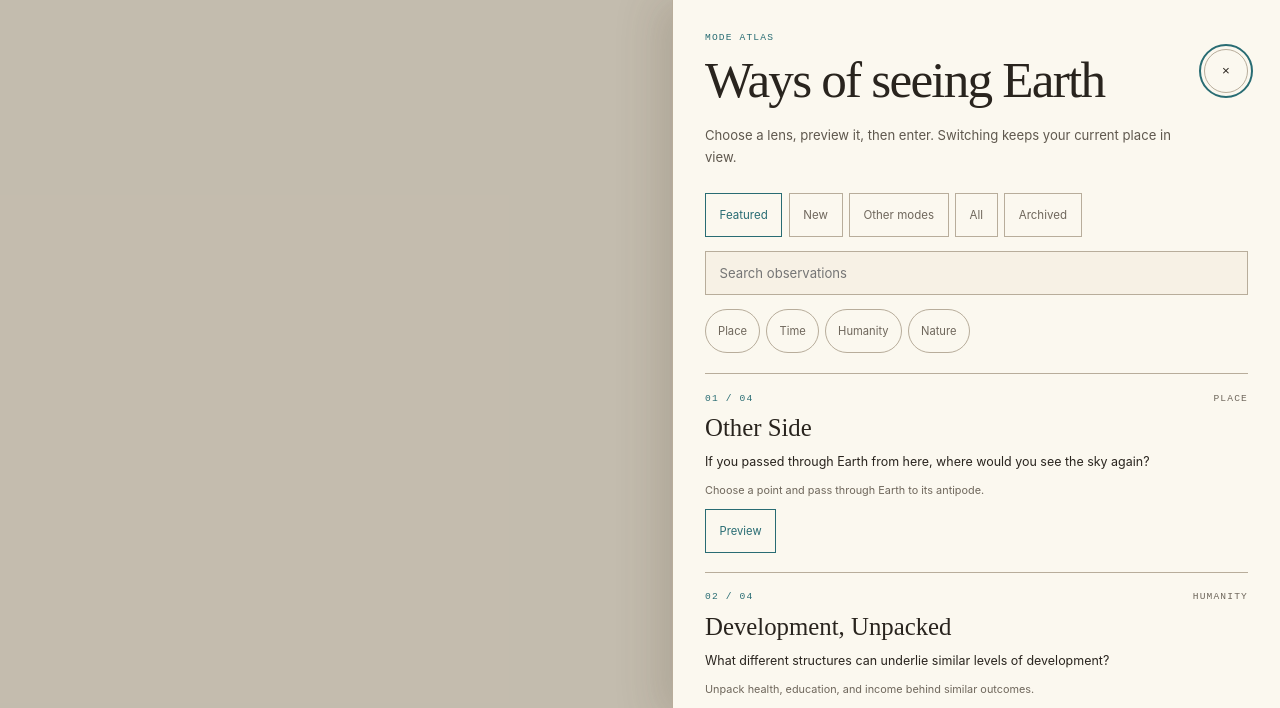
Scenario: ModeAtlas › filters the list by tag
Click the tab "All" at [976, 214], box [955,192,998,236]
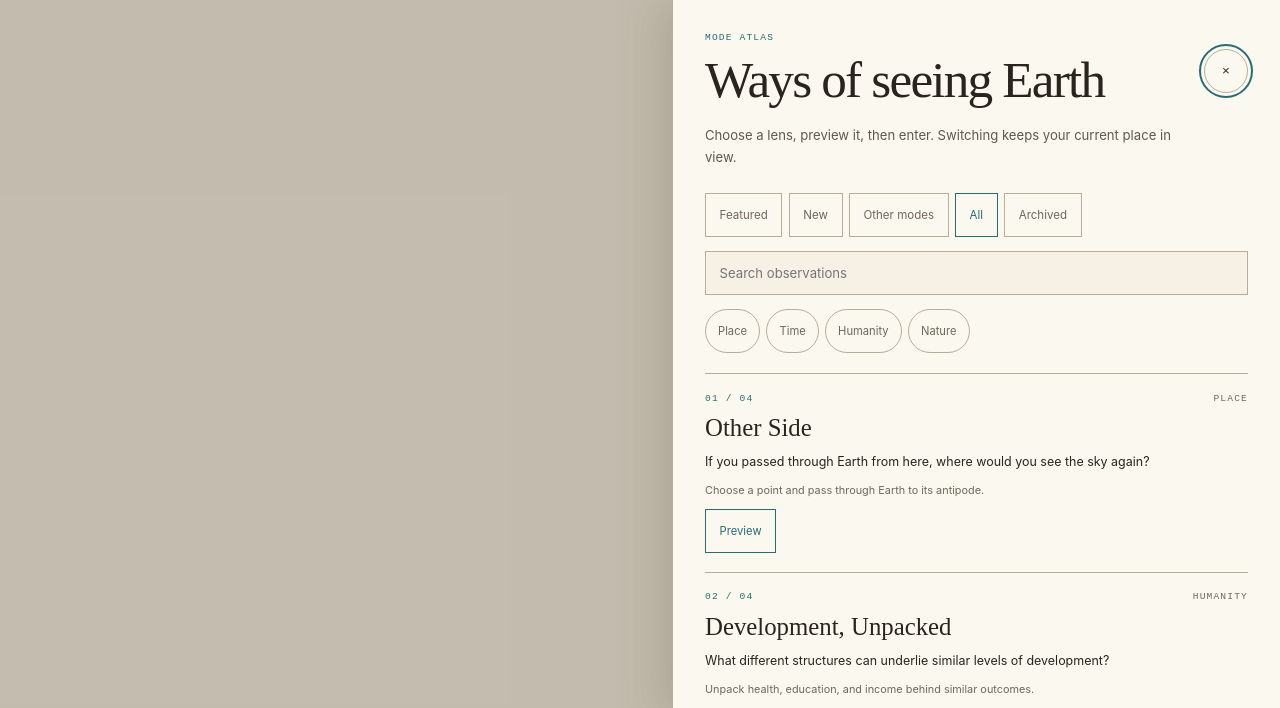
Click the button "Time" at [793, 331], box [766,309,819,353]
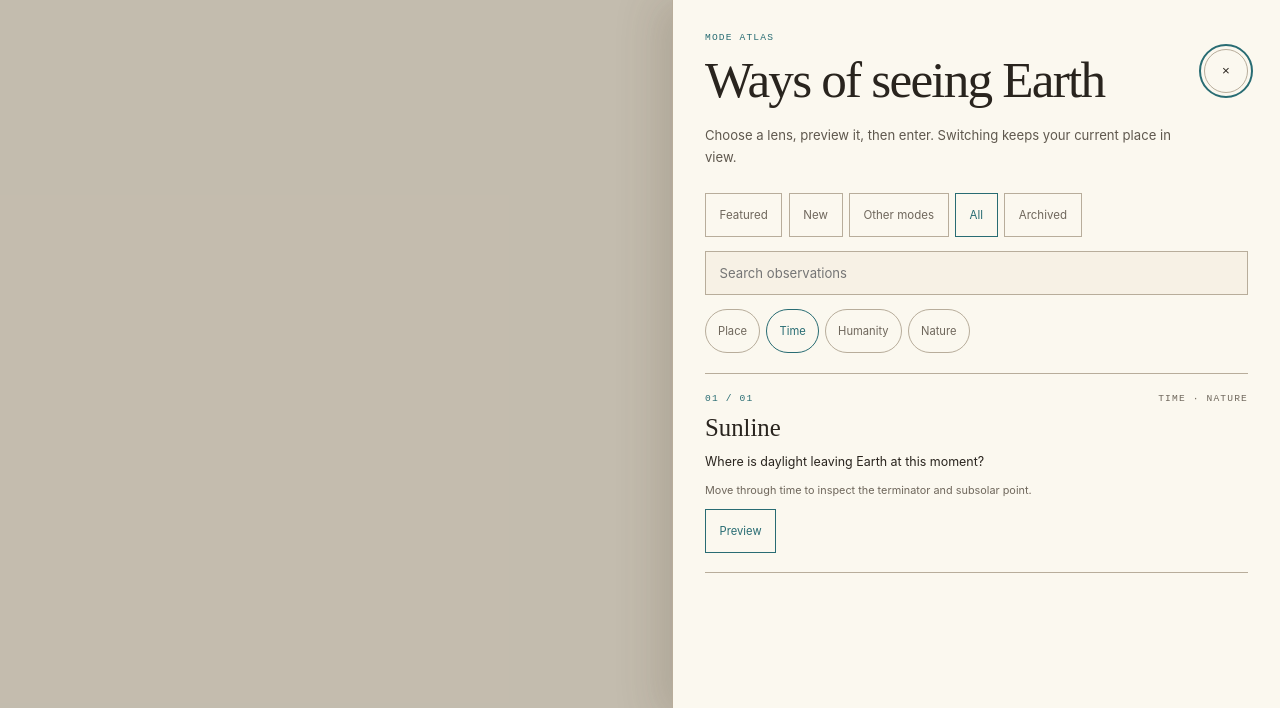
Now the heading "Sunline" is shown, box [705,414,781,441]
Now the heading "Other Side" is gone
